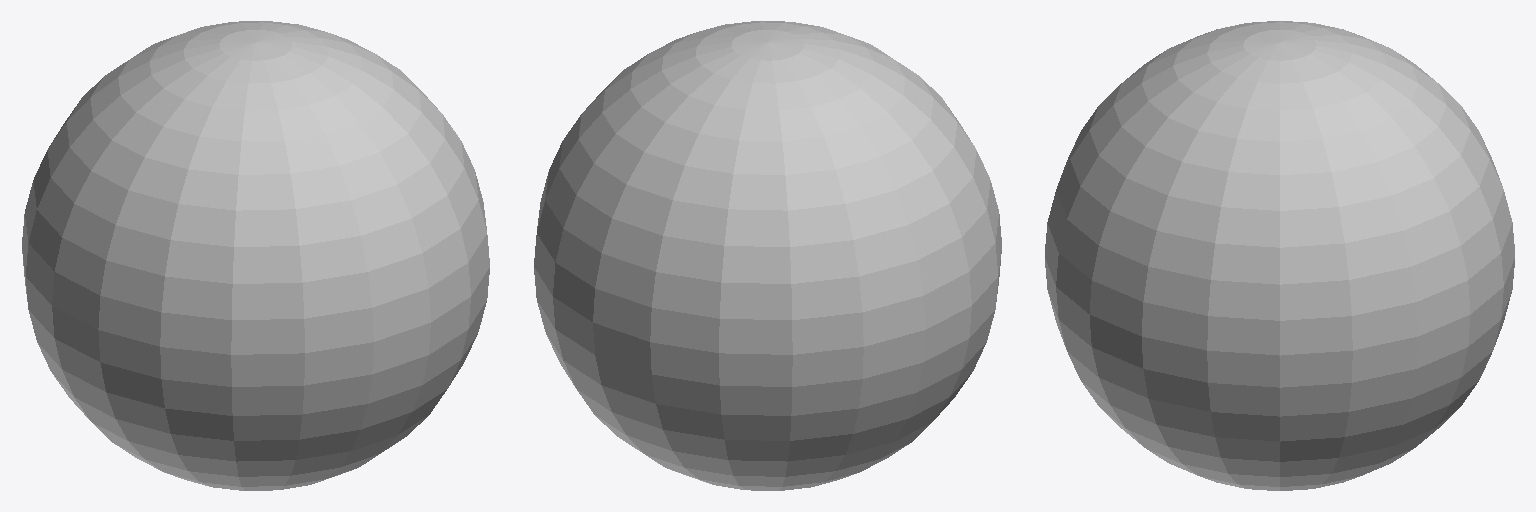
File: canicaAnimada1.obj
The picture shows the model from 3 angles: view 1: azimuth 30°, elevation 25°; view 2: azimuth 150°, elevation 25°; view 3: azimuth 270°, elevation 25°; orthographic projection.
Visible parts, largest first — view 1: pSphere1; view 2: pSphere1; view 3: pSphere1.
Boxes of the visible parts, x1,y1,x2,y2 form: pSphere1: [22, 21, 489, 490]; pSphere1: [534, 21, 1001, 490]; pSphere1: [1045, 21, 1514, 490].
Size of the model in its own units: 2 by 2 by 2.